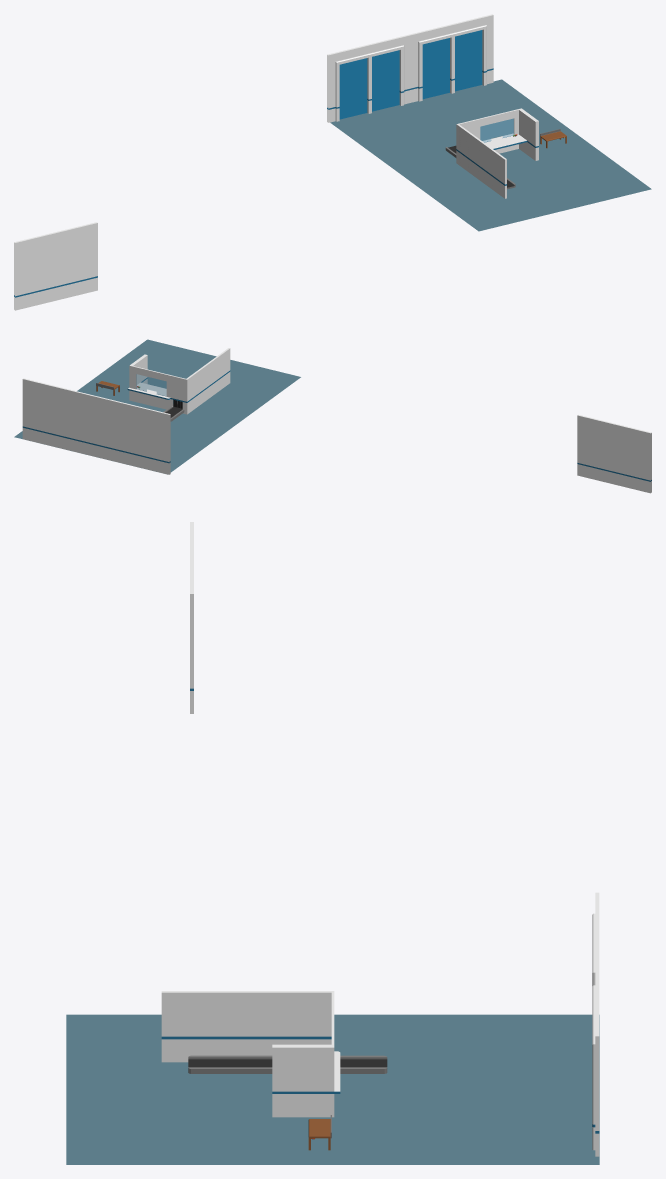
Rendered from AirpostGamePassportControlScene.glb.
The picture shows the model from 3 angles, top to bottom: view 1: azimuth 30°, elevation 25°; view 2: azimuth 150°, elevation 25°; view 3: azimuth 270°, elevation 25°; orthographic projection. The views are drawn at different scales.
Parts seen in each view (by area): view 1: Floor, Wall -noimp, Windoweda_Wall.001, Windoweda_Wall, Cube; view 2: Floor, Windoweda_Wall.001, Wall -noimp, Windoweda_Wall, Cube; view 3: Floor, Cube, Windoweda_Wall.
Part boxes in pixels (box(x1,y1,x2,y2)): Floor: box(330, 79, 651, 231); Wall -noimp: box(14, 222, 97, 310); Windoweda_Wall.001: box(327, 34, 410, 122); Windoweda_Wall: box(410, 14, 493, 102); Cube: box(445, 108, 538, 198); Floor: box(14, 339, 300, 474); Windoweda_Wall.001: box(96, 396, 170, 474); Wall -noimp: box(577, 414, 651, 493); Windoweda_Wall: box(22, 378, 96, 456); Cube: box(127, 348, 230, 421); Floor: box(66, 1014, 599, 1164); Cube: box(161, 991, 387, 1117); Windoweda_Wall: box(592, 964, 599, 1156).
Size of the model in its own units: 219 by 23.51 by 94.58.
Materials: 1 (1 with a texture image).
